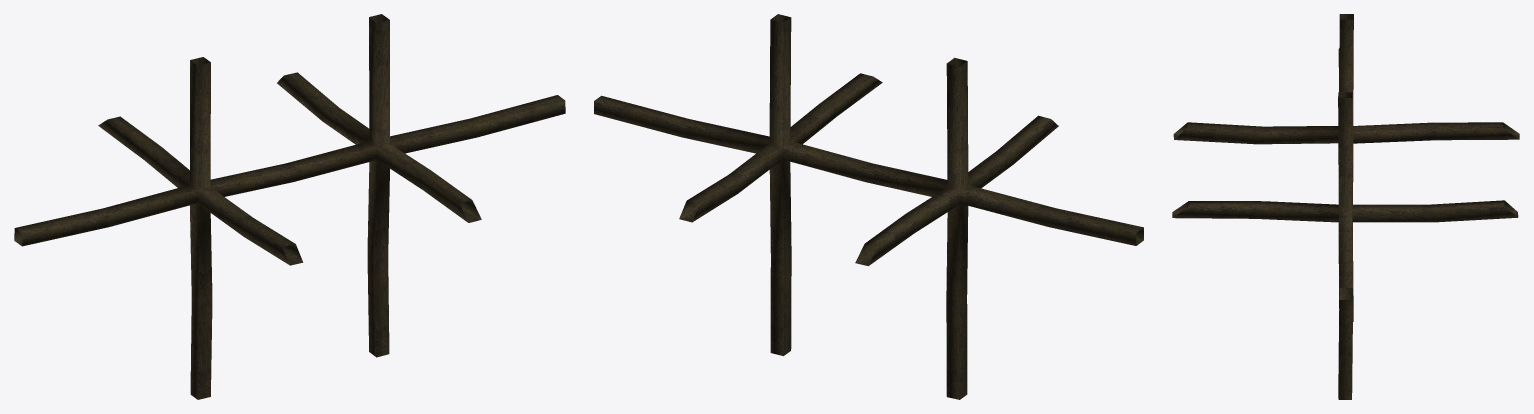
Rendered from KM_VOB_PLANK_INDOOR_02.glb.
3 renders of one model, left to right at view 1: azimuth 30°, elevation 25°; view 2: azimuth 150°, elevation 25°; view 3: azimuth 270°, elevation 25°, orthographic. The views are drawn at different scales.
Parts seen in each view (by area): view 1: Mesh; view 2: Mesh; view 3: Mesh.
Part boxes in pixels (<box>): Mesh: <box>14,14,565,399</box>; Mesh: <box>594,14,1143,399</box>; Mesh: <box>1172,14,1519,399</box>.
Bounding box in the file's own units: 14.35 × 8.44 × 8.8.
1 material, 1 textured.
